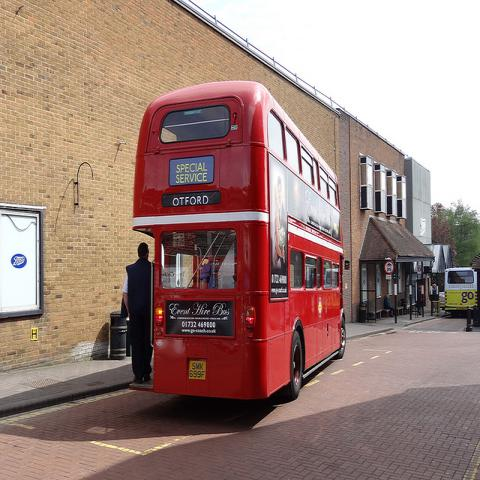bus: (129, 80, 352, 402), (445, 269, 475, 312)
